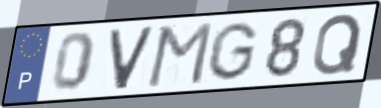0: (51, 30, 98, 95)
8: (263, 16, 308, 80)
G: (203, 20, 260, 83)
M: (144, 20, 216, 90)
Q: (309, 11, 365, 78)
V: (107, 24, 158, 92)
